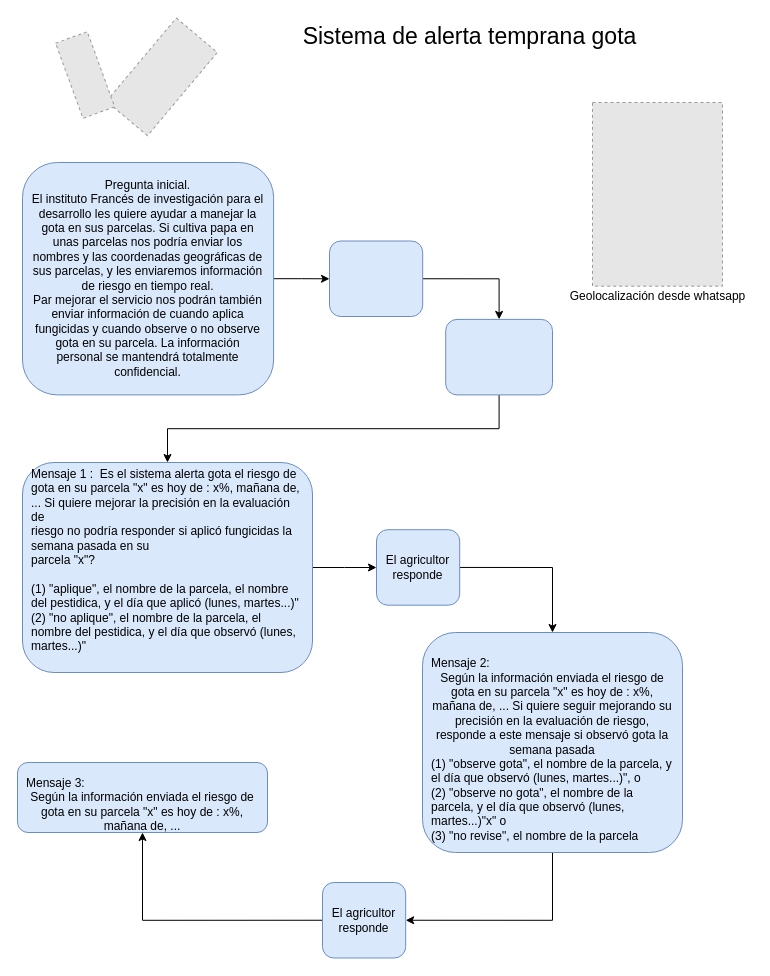
The diagram is 770 pixels wide and 976 high, and some of its shapes have lost their labels. Grey dashed boxes stand in for pictures. Here are the shapes that lost their labels. From the top down, the centre of each, then its label:
At point (375, 278): "El agricultor responde la pregunta inicial".
At point (498, 356): "Cada semana Se le envía el riesgo de enfermedad (0 a 100)".
